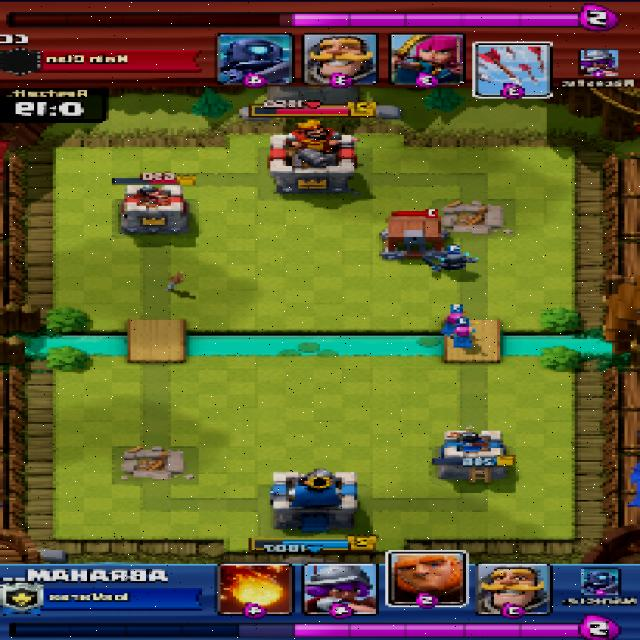Player-Archer: (446, 326, 485, 351), (434, 311, 466, 334)
Player-GoblinCage: (378, 214, 451, 262)
Player-MiniPEKKA: (422, 249, 484, 272)
